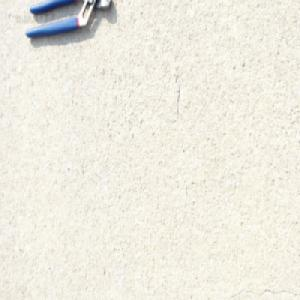Pliers: (24, 0, 112, 40)
